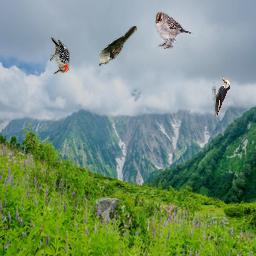Cuckoo: (99, 26, 137, 66)
Sparrow: (154, 12, 194, 49)
Woodpecker: (50, 35, 71, 75), (212, 77, 230, 117)
